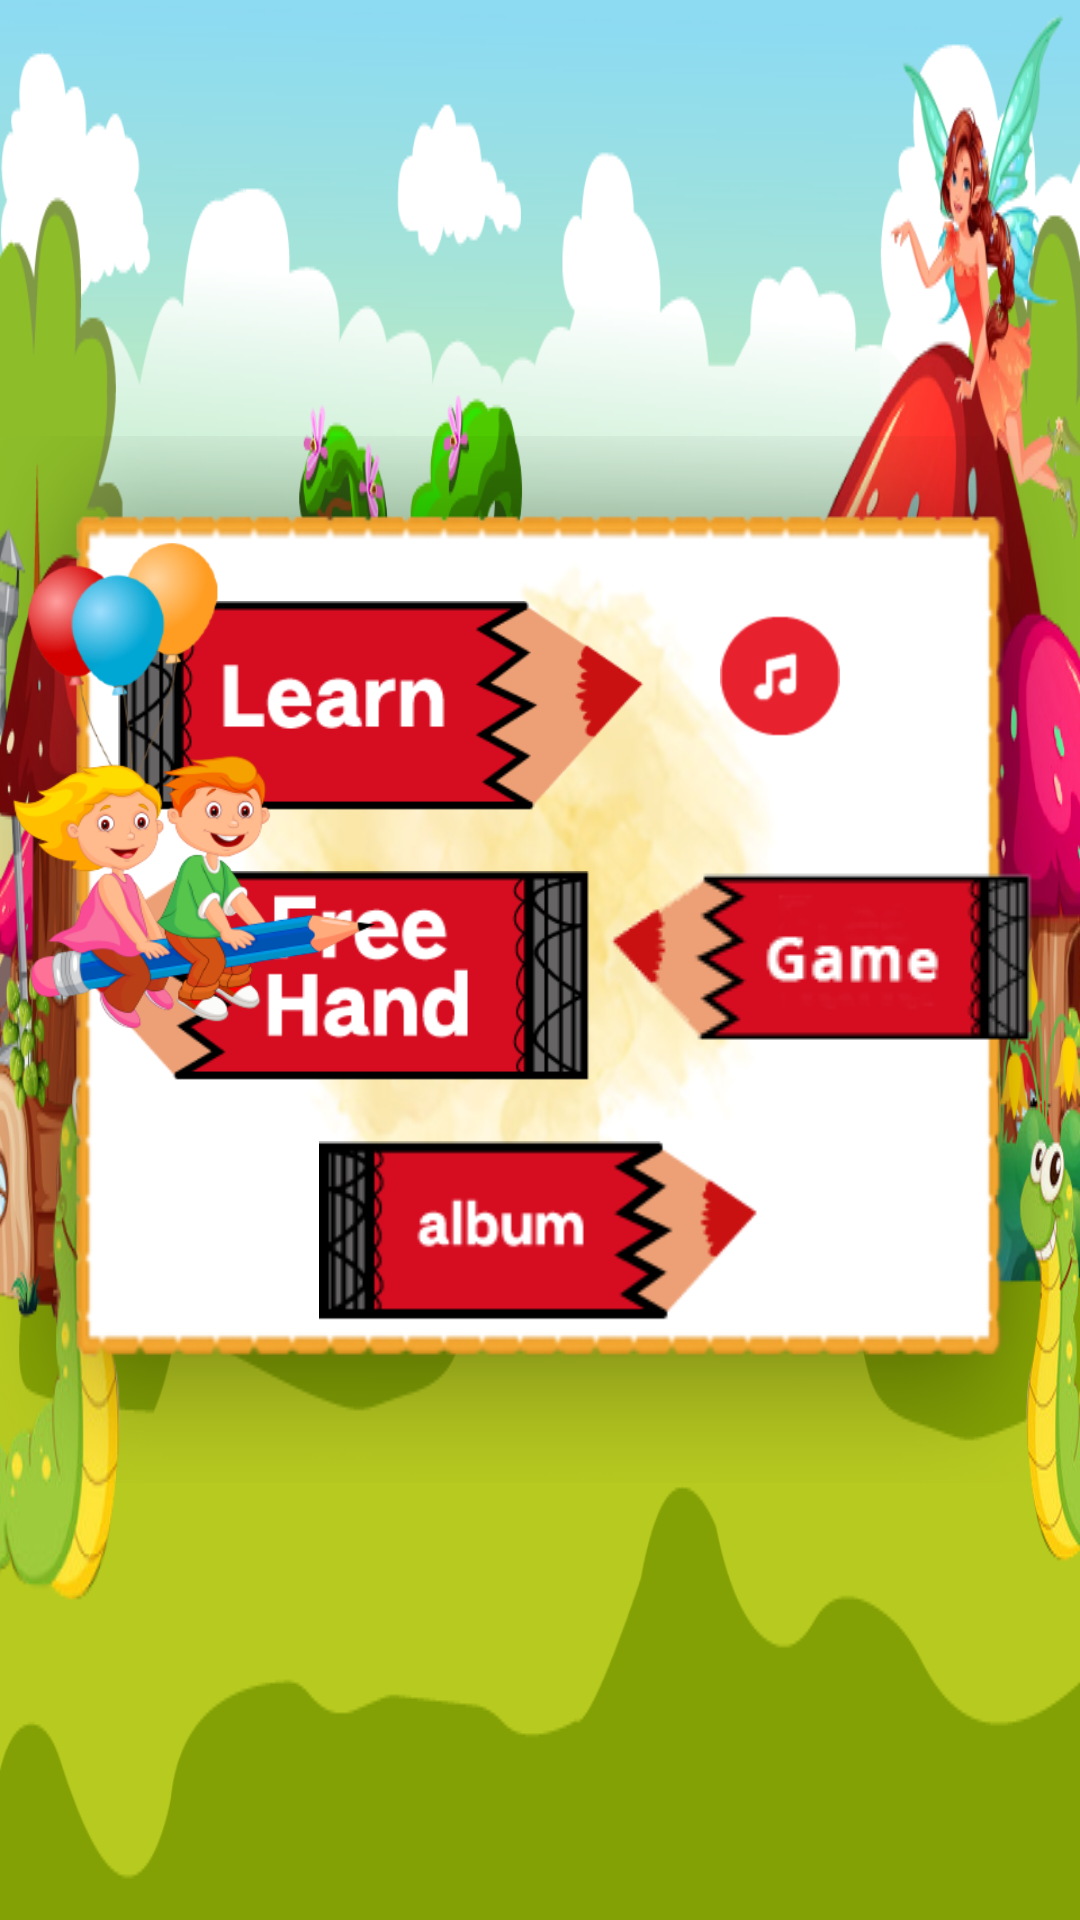

Named icons in this screenshot (1080 x 1920) and their centers, (x,y):
music: (780,676)
